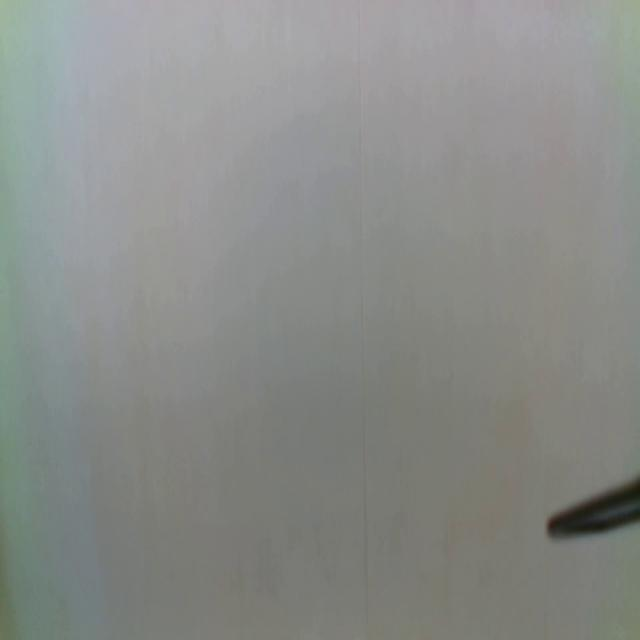crease: (357, 0, 369, 638)
